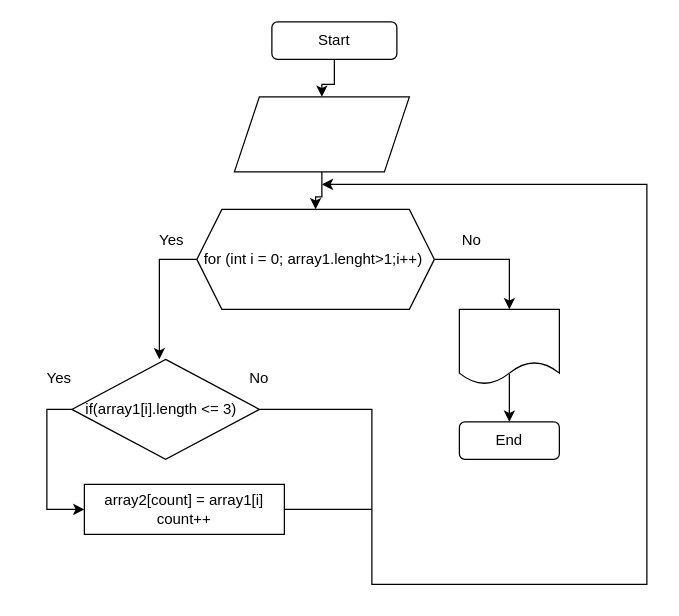
Some shapes in this 679 by 616 pixel diagram are drawn without their labels. Each missing label, with the box of its shape:
array2[count]: (458, 308, 559, 384)
string [ ] arr 1 string [ ] arr 2 int count = 0: (233, 96, 409, 172)
